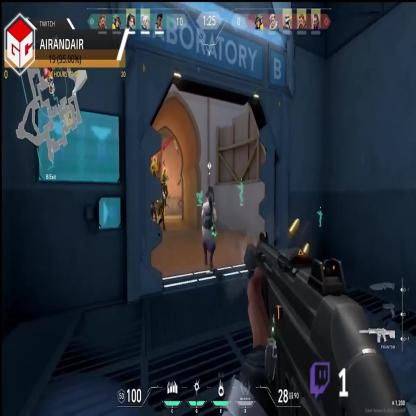enemy: (157, 189, 166, 230), (149, 190, 158, 223), (161, 167, 168, 194), (151, 156, 157, 184)
enemy_head: (151, 190, 155, 198), (152, 156, 156, 161), (162, 168, 166, 173), (162, 192, 164, 199)
